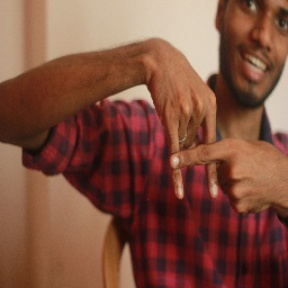H: (137, 77, 260, 210)
